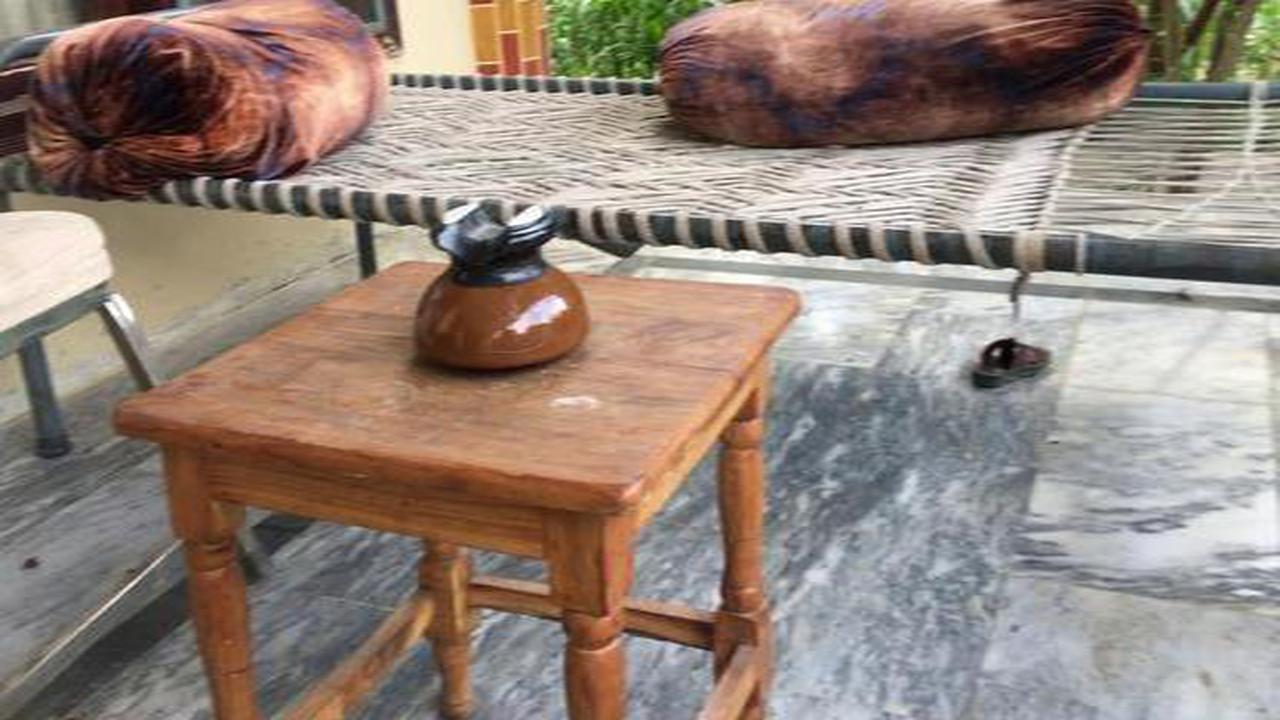insulator_pin: (391, 185, 613, 381)
